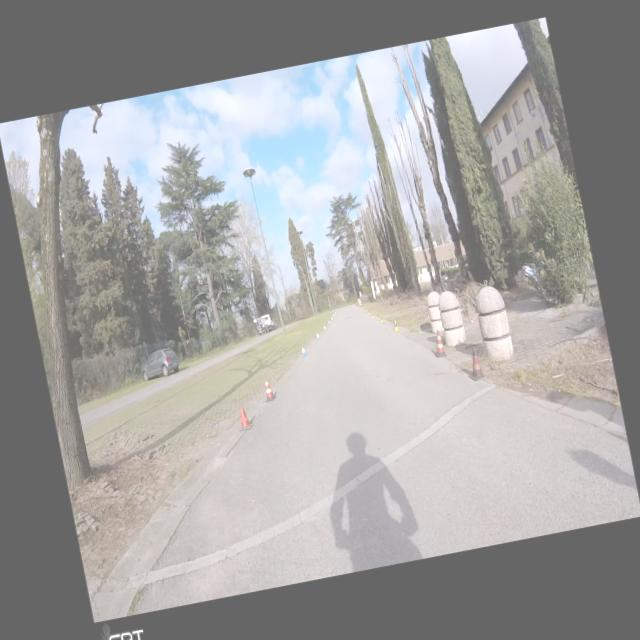blue_cone: (300, 345, 308, 357), (316, 332, 320, 340), (322, 325, 327, 331), (328, 320, 330, 326), (331, 316, 334, 320)
large_orange_cone: (430, 329, 447, 358), (261, 375, 277, 402)
unknown_cone: (463, 346, 488, 382), (236, 405, 254, 431)
yellow_cone: (392, 319, 400, 332), (378, 314, 384, 324), (371, 311, 375, 319), (367, 309, 369, 314), (363, 308, 365, 312)
